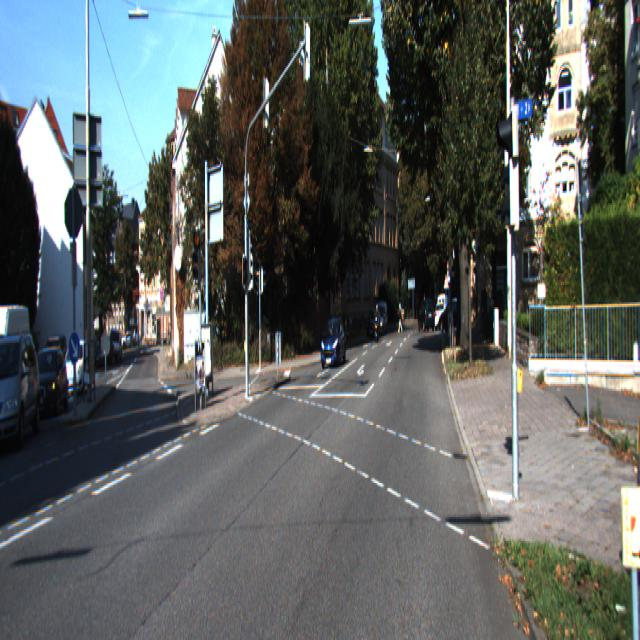Car: (0, 326, 44, 457), (21, 344, 69, 427), (0, 304, 33, 406), (320, 314, 348, 370), (373, 303, 381, 342)
